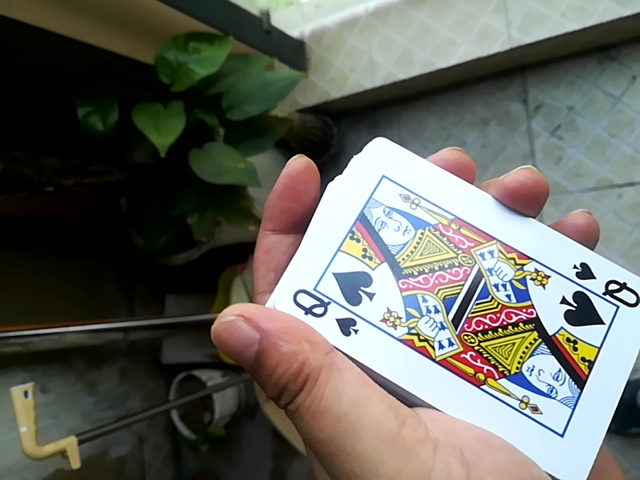ht q: (252, 135, 635, 472)
